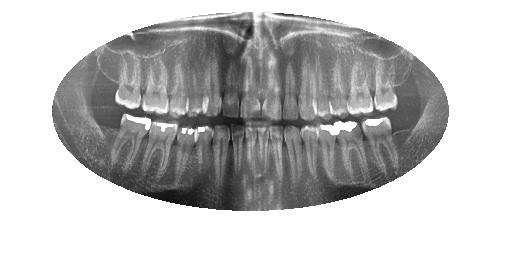i10healthy: (232, 125, 243, 180)
i11healthy: (213, 123, 231, 181)
i12healthy: (194, 126, 214, 181)
i13healthy: (174, 127, 202, 183)
i14healthy: (141, 121, 179, 183)
i15healthy: (109, 114, 156, 174)
i2healthy: (361, 113, 401, 176)
i3healthy: (334, 118, 369, 185)
i4healhty: (316, 124, 339, 187)
i5healthy: (300, 124, 320, 183)
i6healthy: (283, 125, 302, 188)
i7healthy: (270, 125, 283, 180)
i8healthy: (258, 125, 270, 180)
i9healthy: (244, 125, 257, 180)
u10healthy: (223, 57, 241, 119)
u11healthy: (202, 50, 222, 120)
u12healthy: (187, 46, 208, 119)
u13healthy: (169, 45, 190, 118)
u14healthy: (142, 55, 171, 115)
u15healthy: (114, 51, 144, 112)
u2healthy: (373, 56, 400, 114)
u3healthy: (345, 54, 376, 117)
u4healthy: (328, 50, 349, 120)
u5healthy: (312, 54, 333, 120)
u6healthy: (297, 51, 318, 123)
u7healthy: (281, 56, 299, 123)
u8healthy: (261, 47, 282, 122)
u9healthy: (240, 55, 263, 122)
